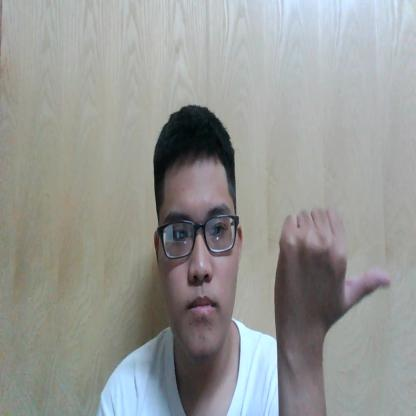left: (272, 203, 394, 344)
